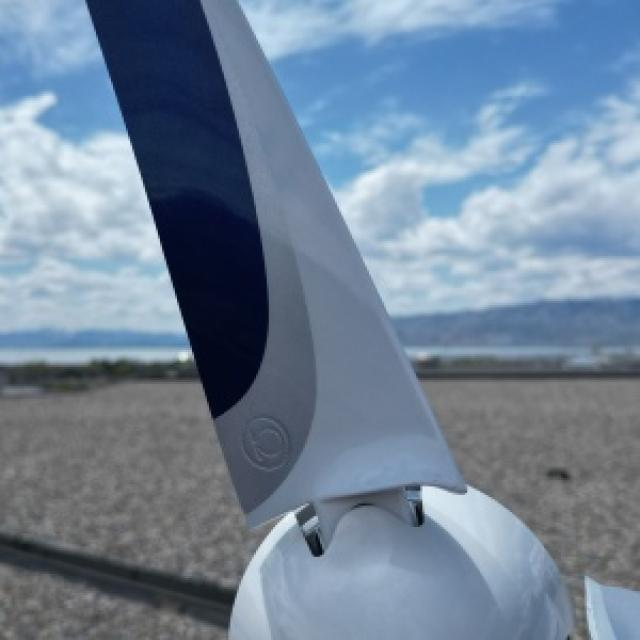healthy: (87, 0, 567, 638)
